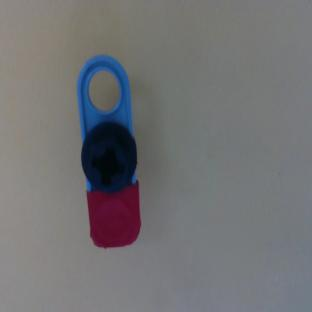part_1_good: (75, 53, 142, 249)
